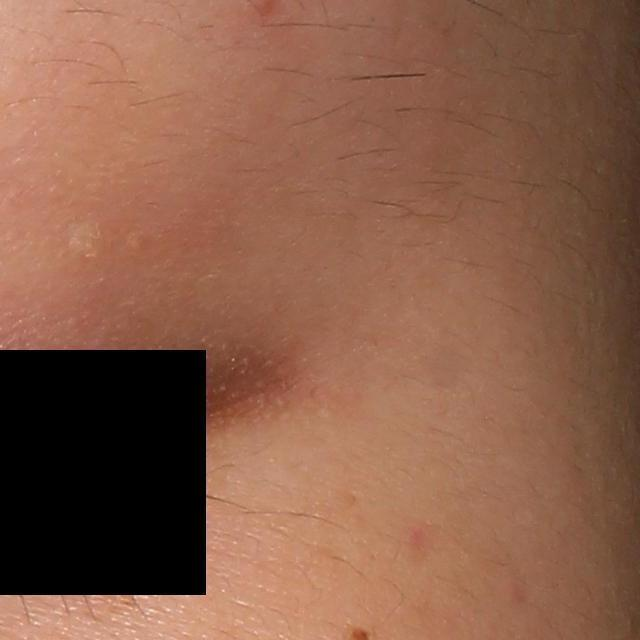other: (63, 216, 112, 258)
